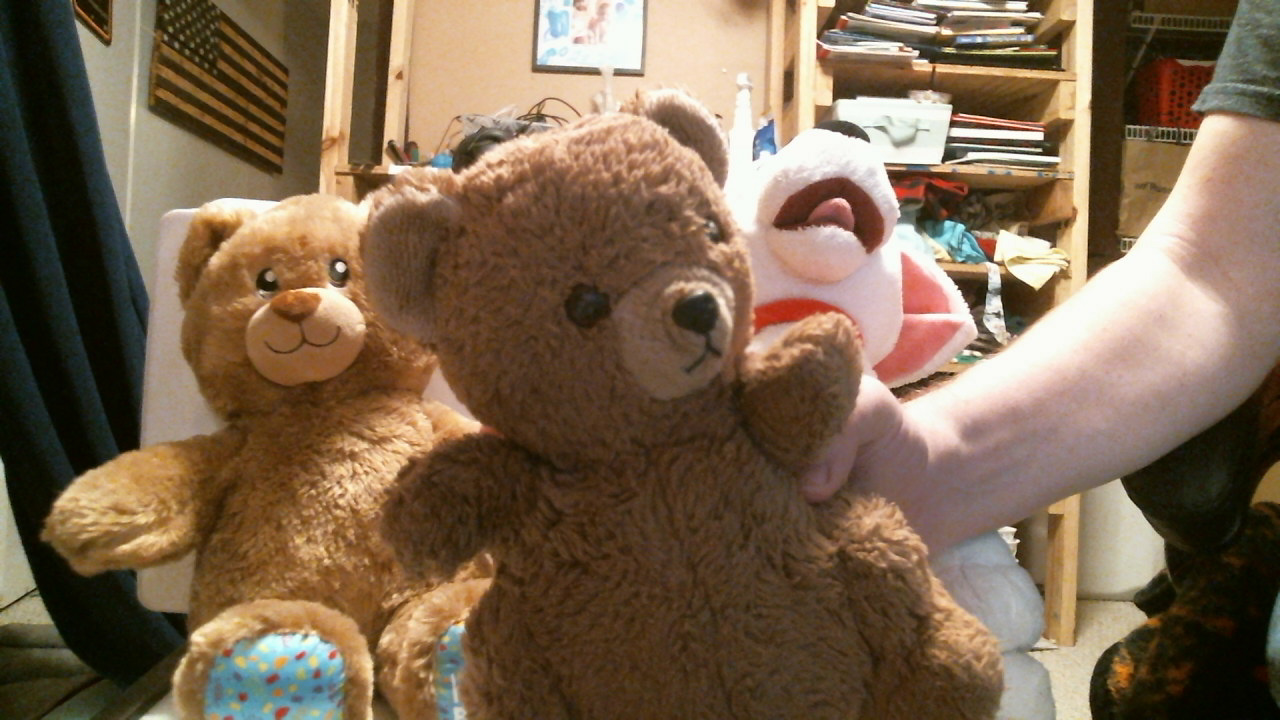Little_Mister_Bear: (556, 234, 749, 400)
